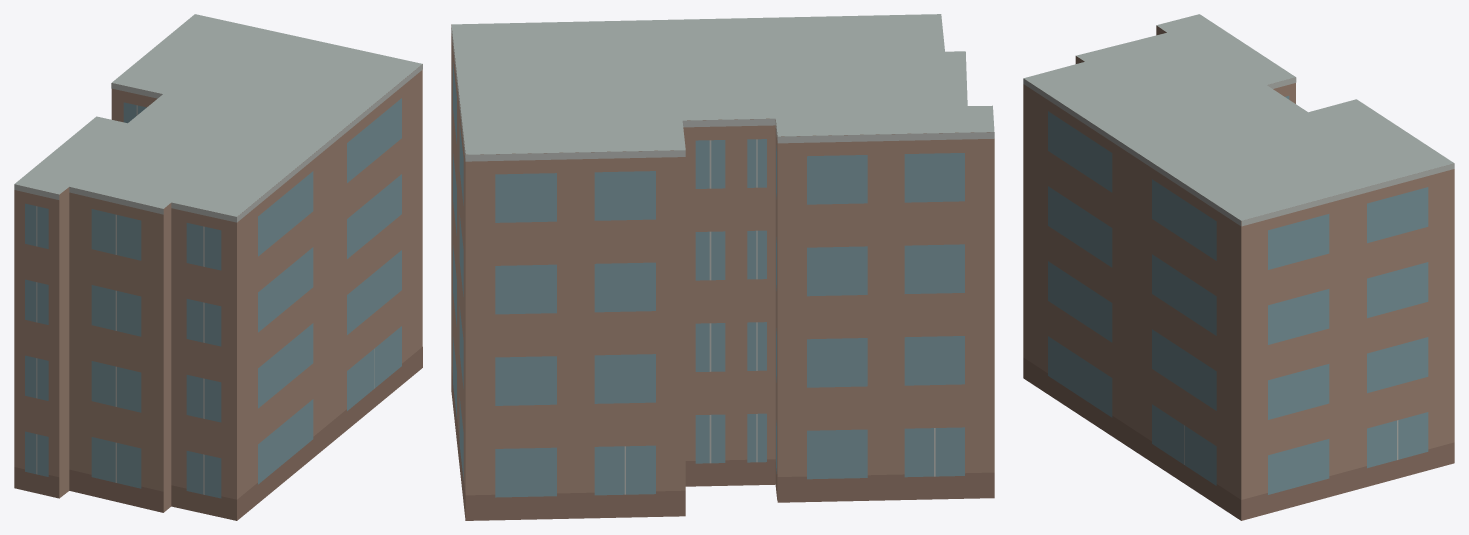
File: survey-upis-32475382.glb
3 views of the same model, side by side, from view 1: azimuth 30°, elevation 25°; view 2: azimuth 150°, elevation 25°; view 3: azimuth 270°, elevation 25° (orthographic). The views are drawn at different scales.
Visible parts, largest first — view 1: survey-upis-32475382.tmp; view 2: survey-upis-32475382.tmp; view 3: survey-upis-32475382.tmp.
Boxes of the visible parts, <box> form: survey-upis-32475382.tmp: <box>14,14,422,520</box>; survey-upis-32475382.tmp: <box>451,14,994,520</box>; survey-upis-32475382.tmp: <box>1023,14,1454,520</box>.
Bounding box in the file's own units: 19.28 × 13.03 × 16.98.
